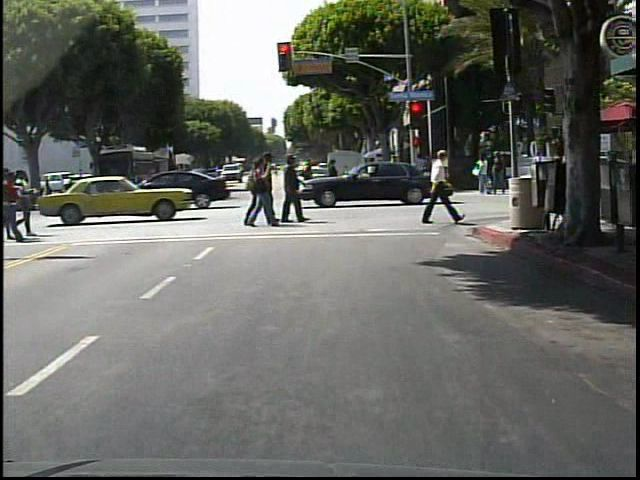person: (419, 141, 462, 233)
